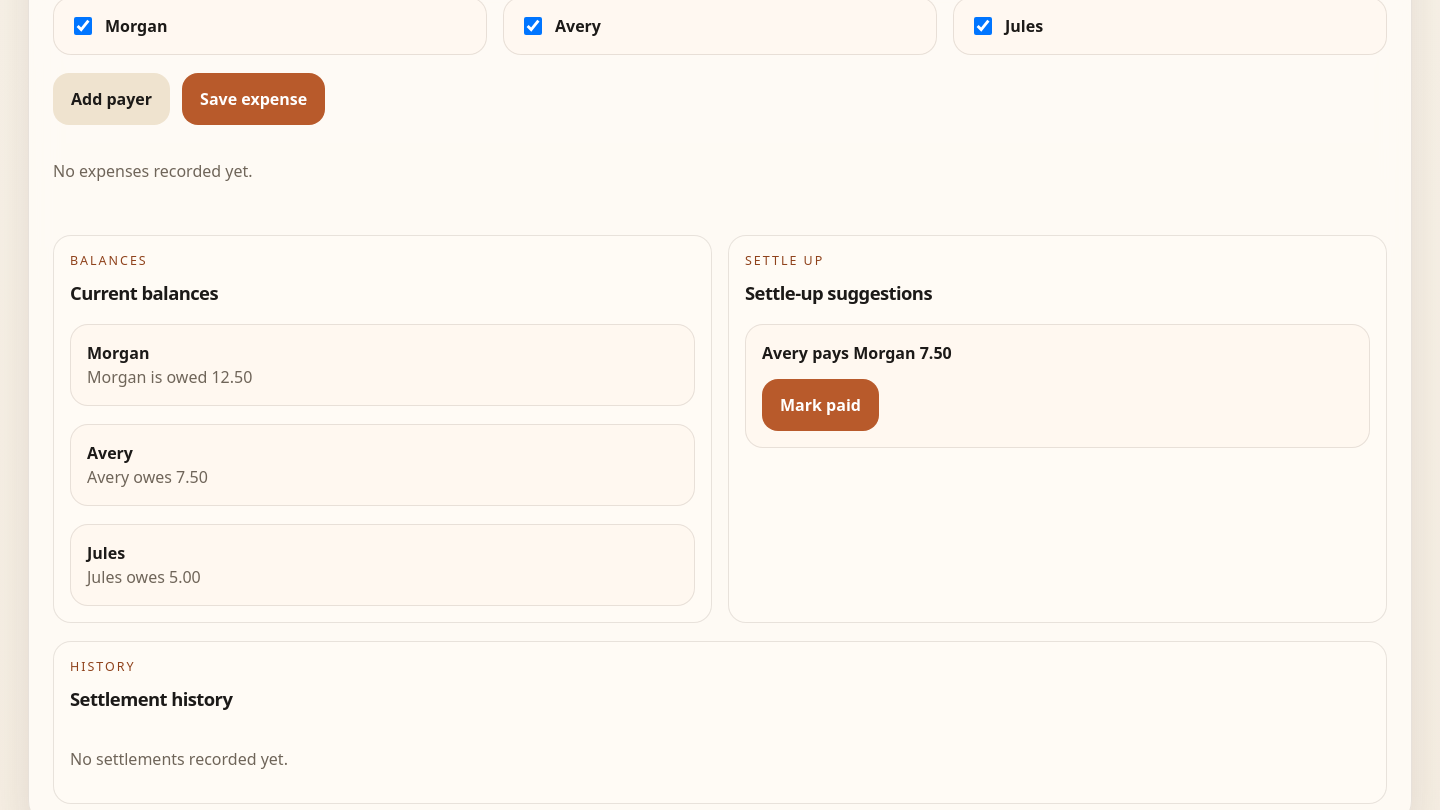
Test: group ledger › shows a visible error when a ledger refresh fails
The width and height of the screenshot is (1440, 810).
(page scrolled)
Click the button "Mark paid" at {"x": 820, "y": 405}, box x1=762 y1=379 x2=879 y2=431
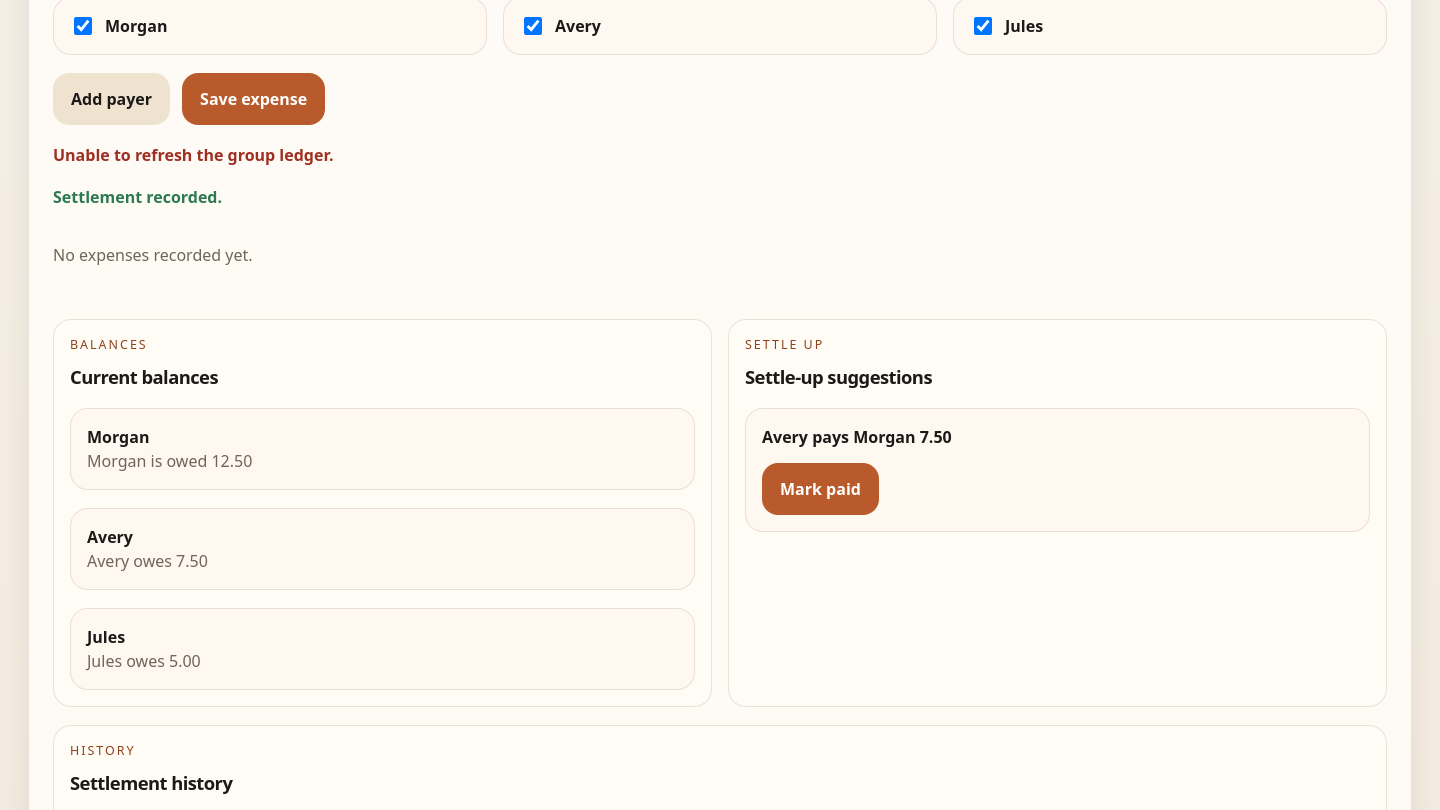
Expected: the text "Morgan is owed 12.50" is shown, x1=87 y1=450 x2=252 y2=472
Result: the text "Unable to refresh the group ledger." is shown at x1=53 y1=144 x2=334 y2=166
